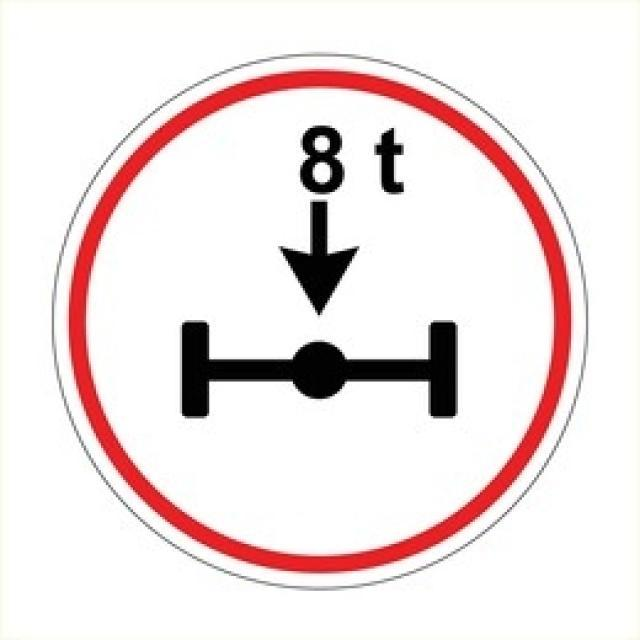axle load limit: (62, 64, 581, 576)
